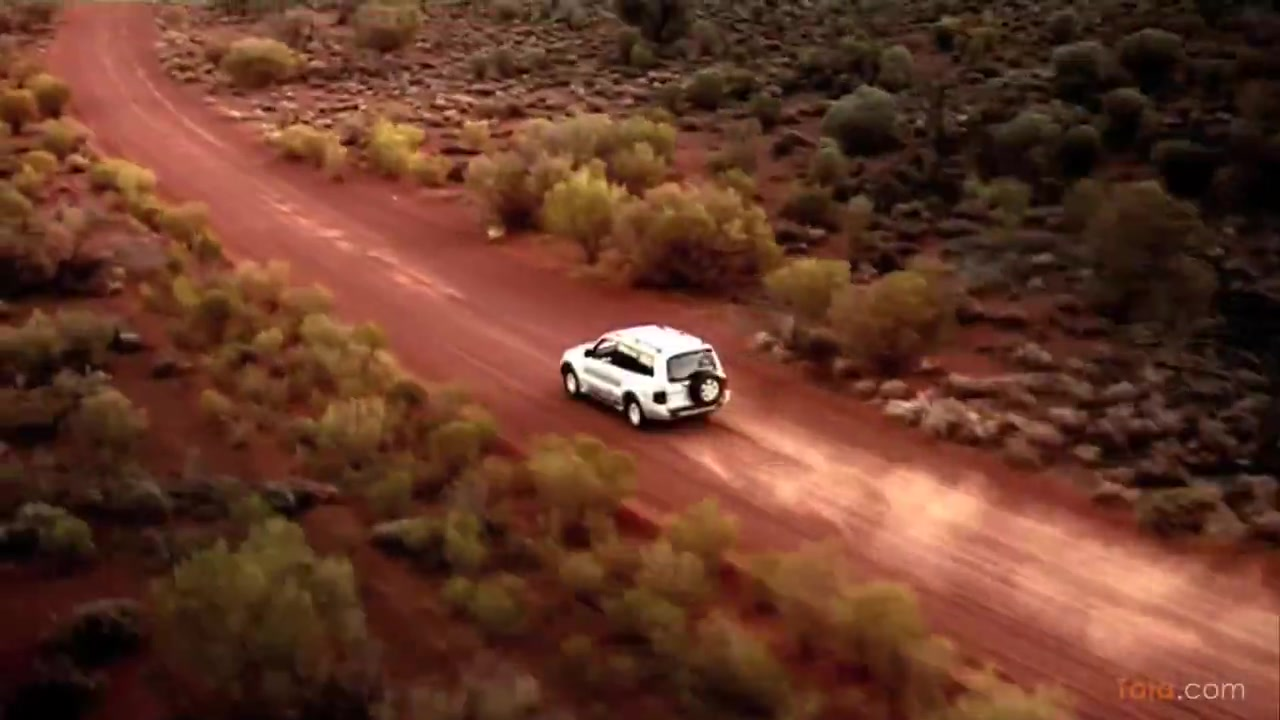car: (562, 320, 728, 431)
